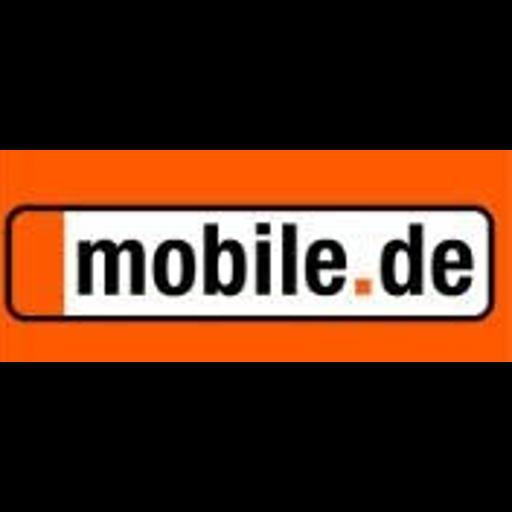Mobile-de: (0, 150, 512, 362)
